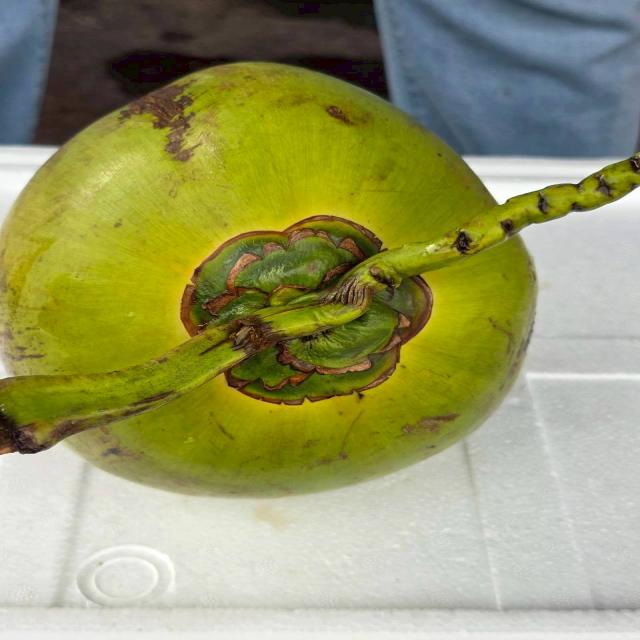coco_1.5: (144, 190, 459, 430)
